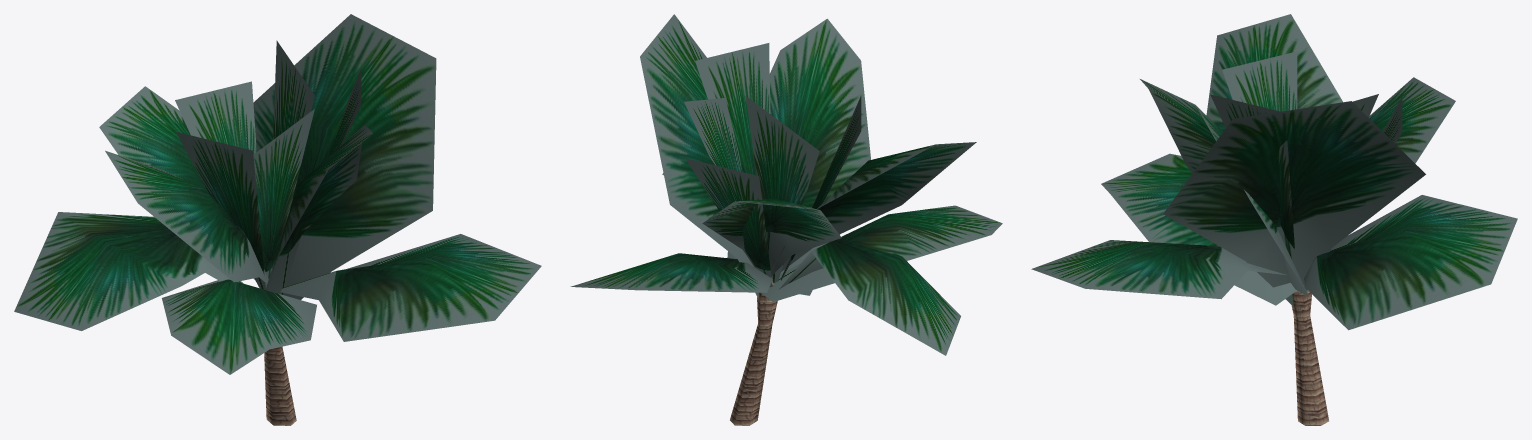
The model's file is palm_static_sml_a.fbx.
3 renders of one model, left to right at view 1: azimuth 30°, elevation 25°; view 2: azimuth 150°, elevation 25°; view 3: azimuth 270°, elevation 25°, orthographic. The views are drawn at different scales.
Parts seen in each view (by area): view 1: leaf_5, leaf_1, leaf_4, leaf_2, leaf_3, leaf_7, leaf_6, trunk; view 2: leaf_1, leaf_5, leaf_2, leaf_3, leaf_7, leaf_8, leaf_6, trunk; view 3: leaf_5, leaf_8, leaf_1, leaf_4, leaf_3, leaf_7, leaf_6, trunk.
Boxes of the visible parts, left/top/right/bottom form: leaf_5: left=253, top=14, right=436, bottom=299; leaf_1: left=175, top=40, right=372, bottom=294; leaf_4: left=280, top=234, right=541, bottom=341; leaf_2: left=14, top=212, right=243, bottom=330; leaf_3: left=162, top=279, right=316, bottom=374; leaf_7: left=105, top=150, right=268, bottom=283; leaf_6: left=99, top=86, right=207, bottom=191; trunk: left=264, top=346, right=296, bottom=425; leaf_1: left=684, top=18, right=870, bottom=295; leaf_5: left=640, top=14, right=758, bottom=297; leaf_2: left=779, top=239, right=960, bottom=355; leaf_3: left=761, top=205, right=1002, bottom=301; leaf_7: left=771, top=142, right=976, bottom=271; leaf_8: left=570, top=253, right=772, bottom=292; leaf_6: left=702, top=198, right=841, bottom=276; trunk: left=730, top=280, right=777, bottom=425; leaf_5: left=1163, top=101, right=1425, bottom=306; leaf_8: left=1304, top=195, right=1517, bottom=330; leaf_1: left=1140, top=51, right=1402, bottom=296; leaf_4: left=1031, top=240, right=1287, bottom=299; leaf_3: left=1101, top=153, right=1303, bottom=305; leaf_7: left=1206, top=14, right=1342, bottom=131; leaf_6: left=1369, top=77, right=1455, bottom=163; trunk: left=1291, top=289, right=1328, bottom=425.
Size of the model in its own units: 400 by 370 by 451.
Materials: 2 (2 with a texture image).
